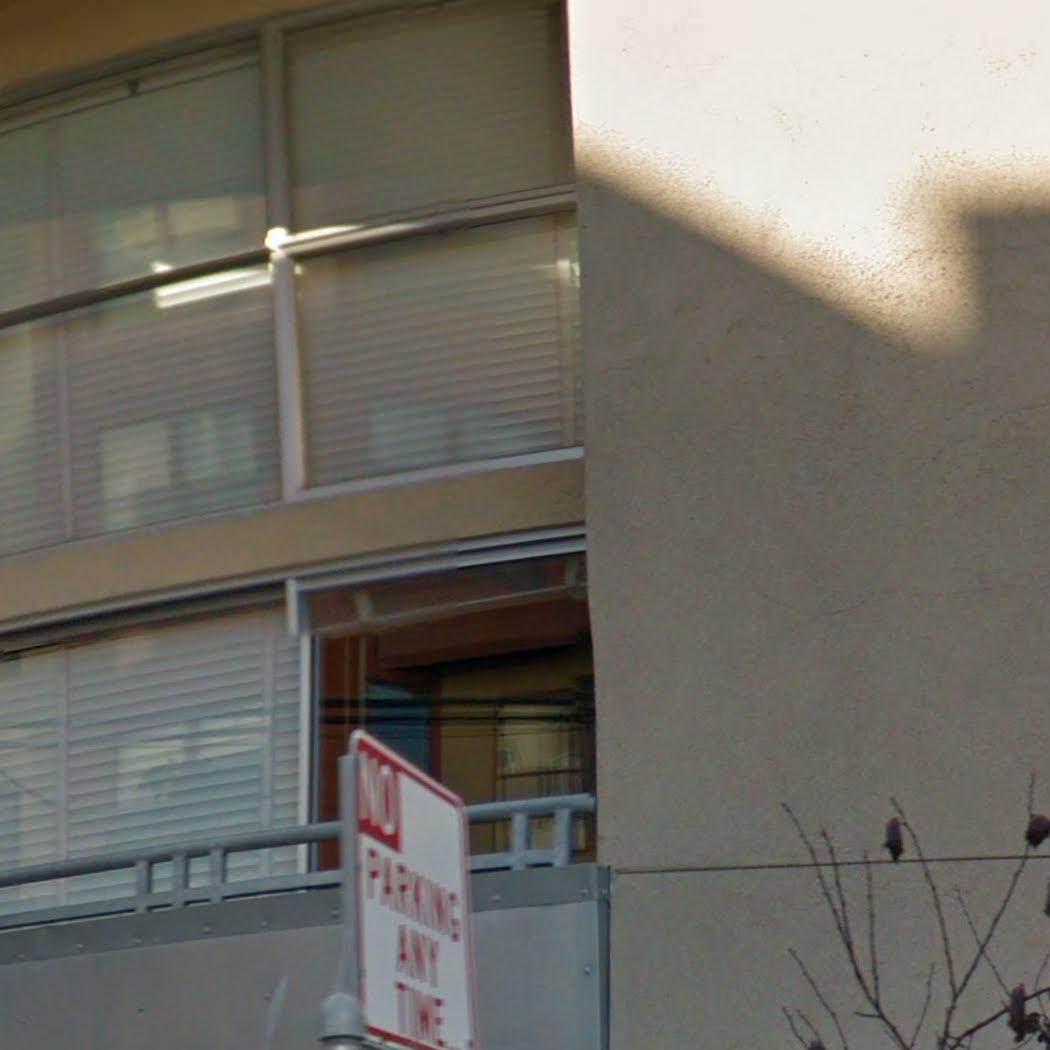No Parking Anytime: (343, 721, 478, 1050)
